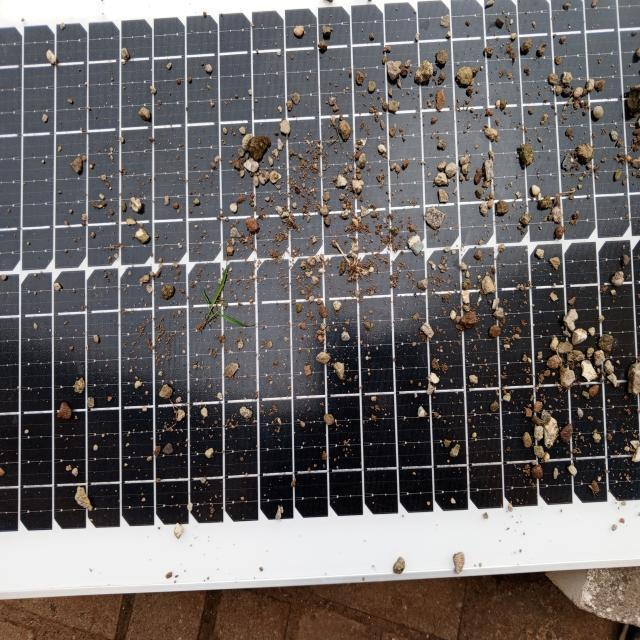Anomaly Solar Panel: (3, 8, 637, 538)
Surface Contaminant: (0, 9, 639, 520)
